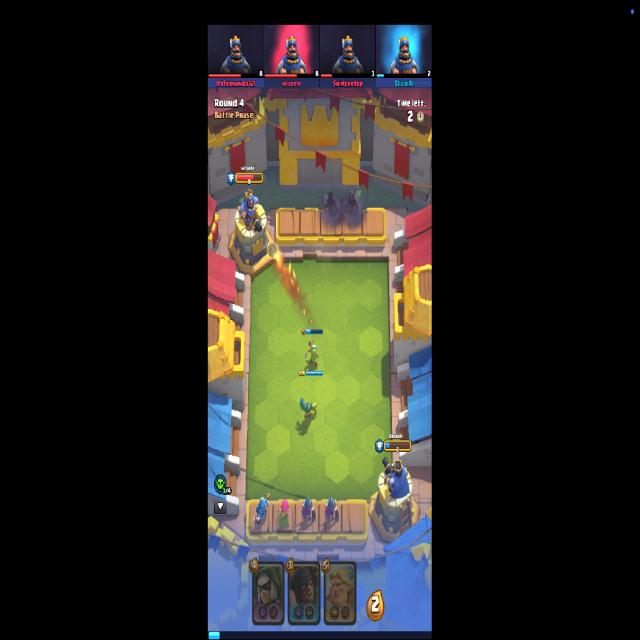archer: (277, 499, 291, 529)
card_bandit: (252, 560, 284, 626)
card_executioner: (287, 558, 321, 626)
card_golden_knight: (324, 559, 356, 625)
dart_goblin: (300, 394, 319, 424)
musketeer: (324, 497, 341, 528), (299, 497, 316, 524)
spear_goblin: (304, 340, 320, 370)
wizard: (251, 492, 269, 525)
